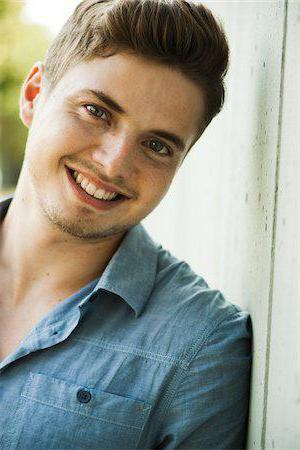Sober: (40, 49, 183, 229)
